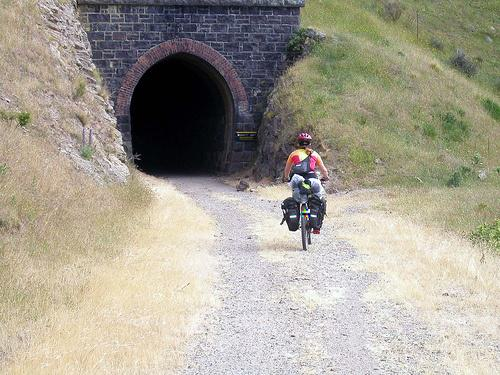car: (282, 175, 330, 251)
person: (286, 132, 330, 235)
